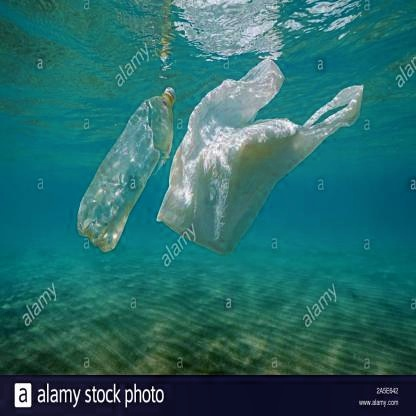pbag: (154, 52, 368, 265)
pbottle: (71, 84, 176, 259)
